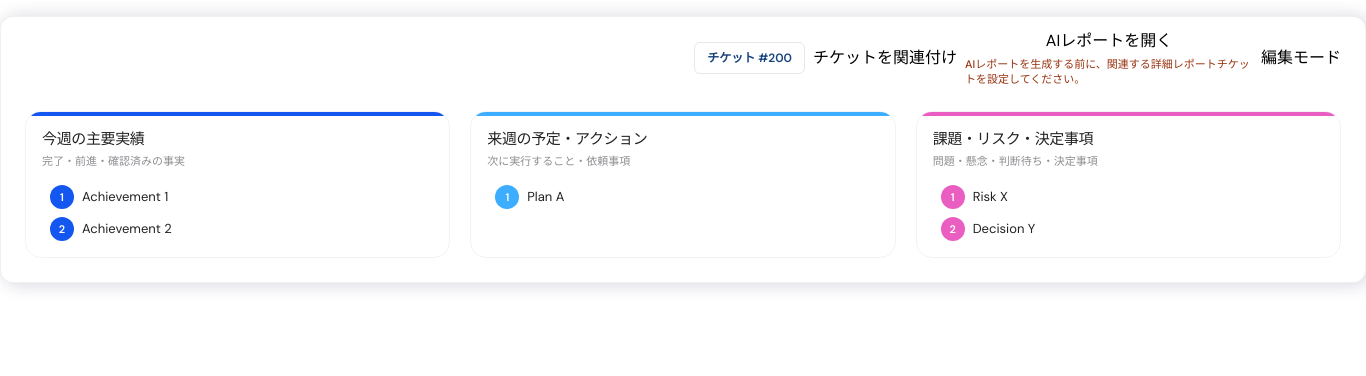
Test: ReportDetailPanel › allows adding a row
Expected: the element with test id "detail-card-fact" is shown, [25,111,450,258]
Click the button with test id "toggle-edit-mode-btn".
click(1301, 58)  # box [1261,46,1341,70]
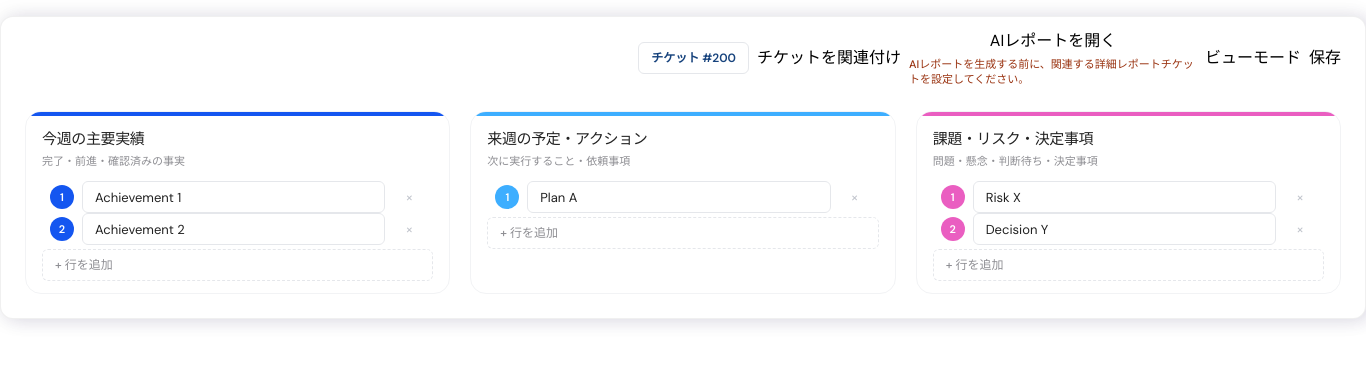
Expected: the button with test id "detail-add-fact" is shown
Click the button with test id "detail-add-fact".
click(84, 265)  # box [42,249,433,281]
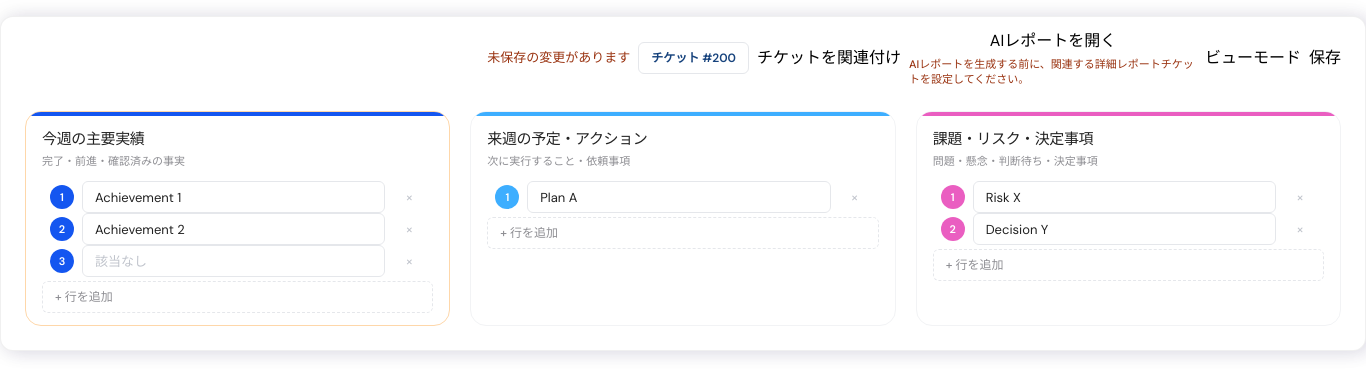
Expected: the field with test id "detail-input-fact-2" is shown, [82,245,385,277]
